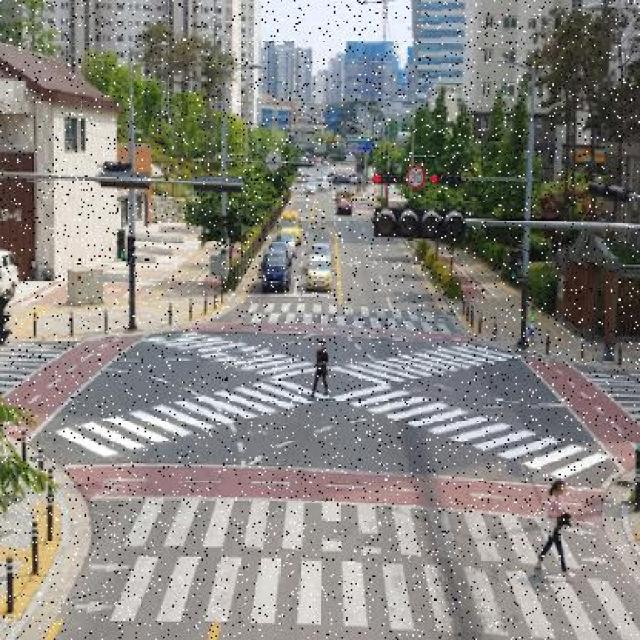crosswalk: (110, 558, 640, 640), (130, 497, 581, 568), (336, 383, 611, 481), (337, 383, 613, 480), (51, 380, 325, 455), (341, 339, 515, 390), (154, 329, 321, 379), (569, 358, 640, 427), (253, 312, 459, 333), (252, 299, 463, 318), (3, 341, 69, 394)
